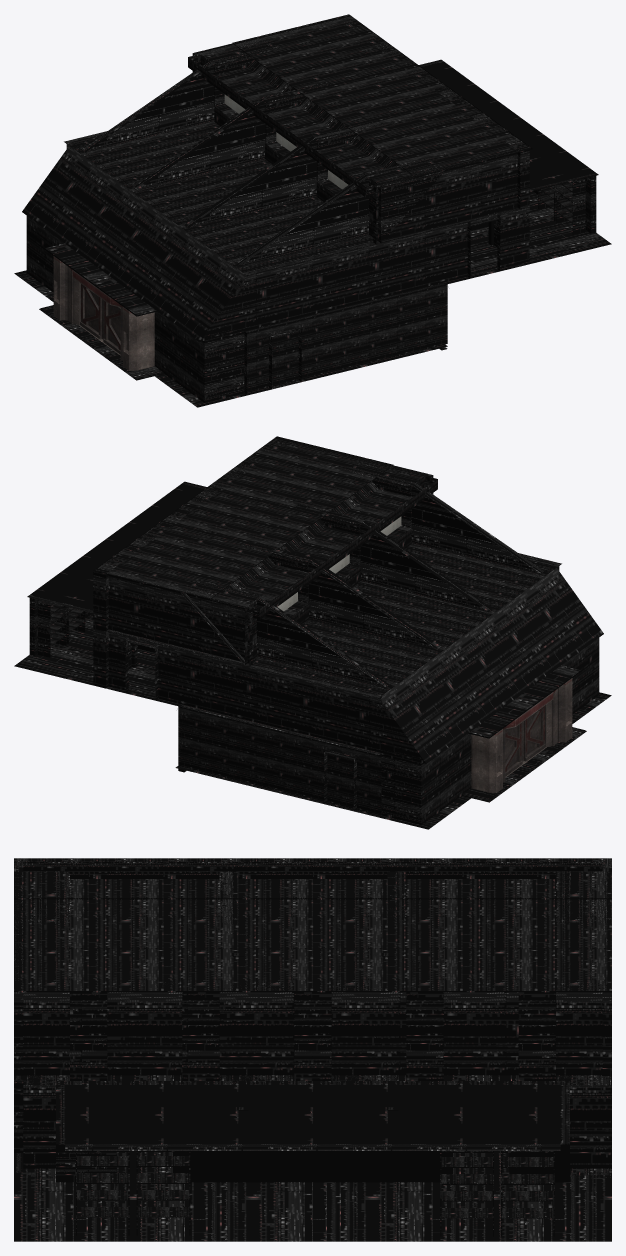
The model's file is room2closets_opt.obj.
The picture shows the model from 3 angles, top to bottom: view 1: azimuth 30°, elevation 25°; view 2: azimuth 150°, elevation 25°; view 3: azimuth 270°, elevation 25°; orthographic projection. The views are drawn at different scales.
Bounding box in the file's own units: 2788 × 1124 × 2048.
